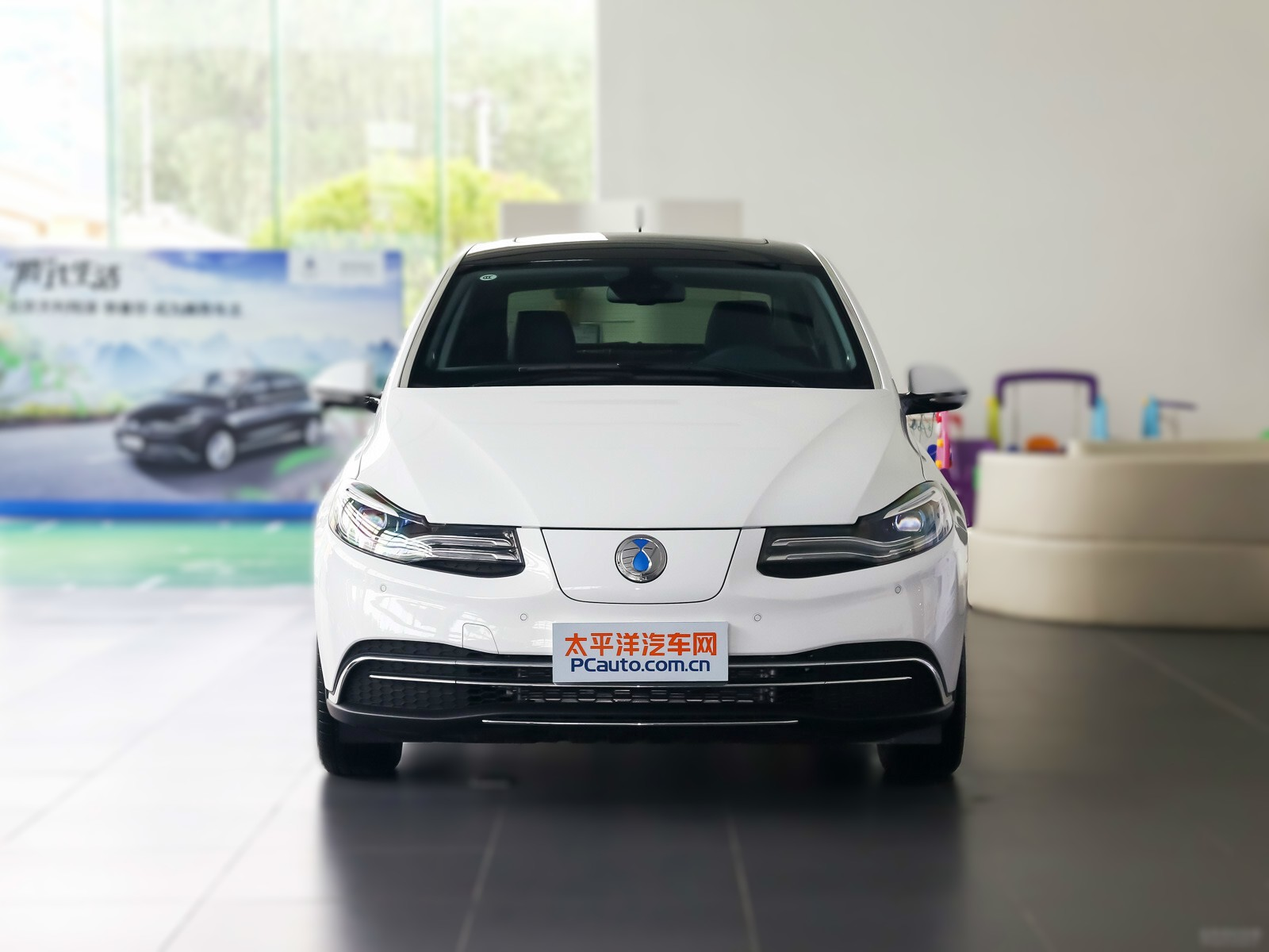DENZA: (616, 535, 666, 581)
